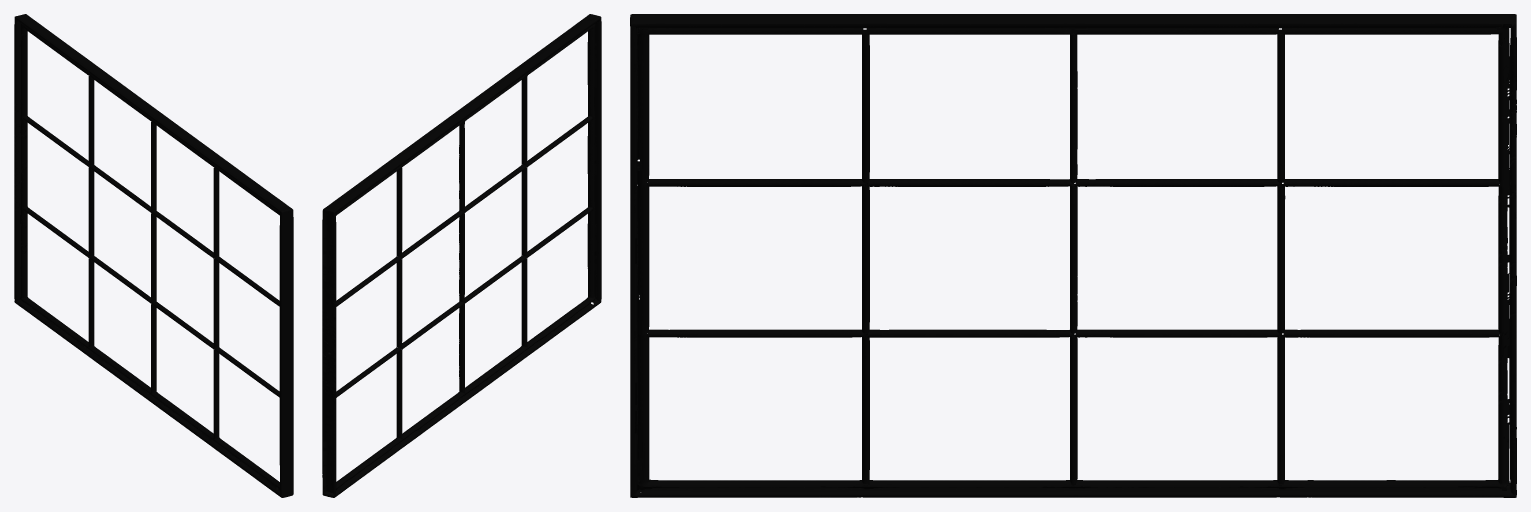
File: lounge_front_window_wall.raw.glb
3 renders of one model, left to right at view 1: azimuth 30°, elevation 25°; view 2: azimuth 150°, elevation 25°; view 3: azimuth 270°, elevation 25°, orthographic. The views are drawn at different scales.
Visible parts, largest first — view 1: world; view 2: world; view 3: world.
Part boxes in pixels (box(x1,y1,x2,y2)): world: box(14, 14, 293, 497); world: box(322, 14, 601, 497); world: box(630, 14, 1516, 497).
Size of the model in its own units: 0.0277 by 0.5927 by 1.
Materials: 1 (1 with a texture image).
